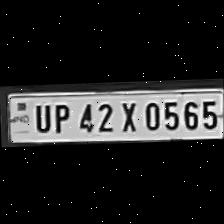0: (138, 96, 162, 130)
2: (93, 98, 115, 132)
4: (72, 98, 94, 132)
5: (197, 96, 219, 130), (160, 96, 180, 130)
6: (180, 96, 198, 129)
P: (48, 99, 70, 133)
U: (30, 99, 50, 132)
X: (115, 97, 139, 132)
